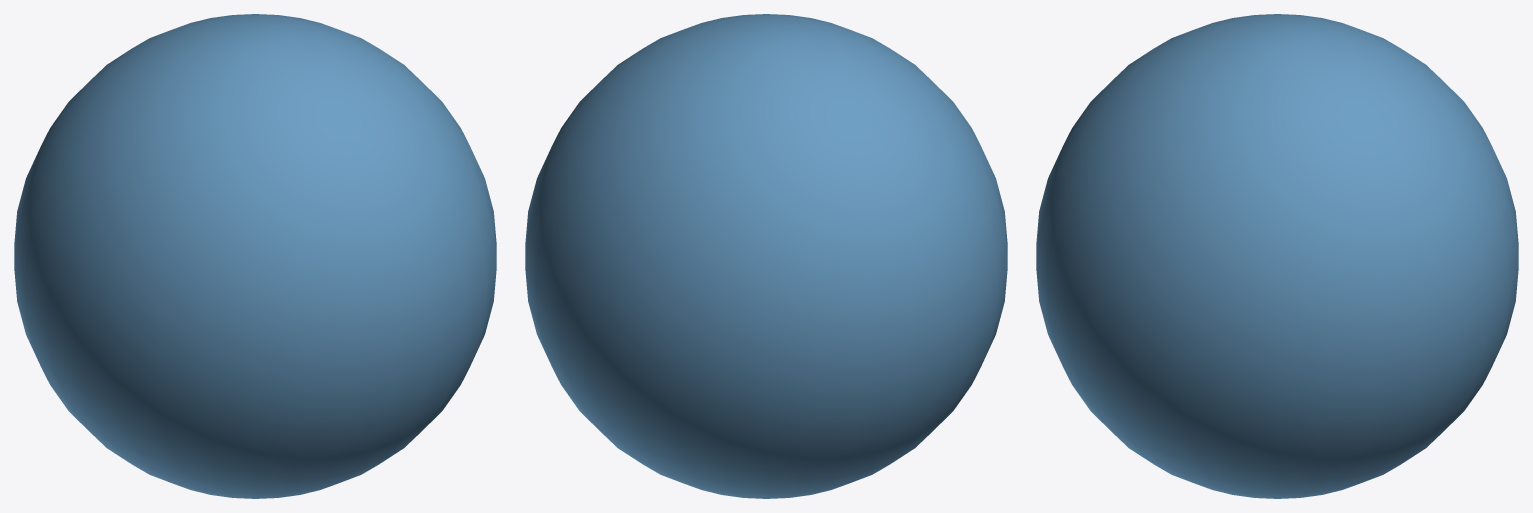
The model's file is crowd.obj.
The picture shows the model from 3 angles, left to right: view 1: azimuth 30°, elevation 25°; view 2: azimuth 150°, elevation 25°; view 3: azimuth 270°, elevation 25°; orthographic projection.
Size of the model in its own units: 2 by 2 by 1.99.
